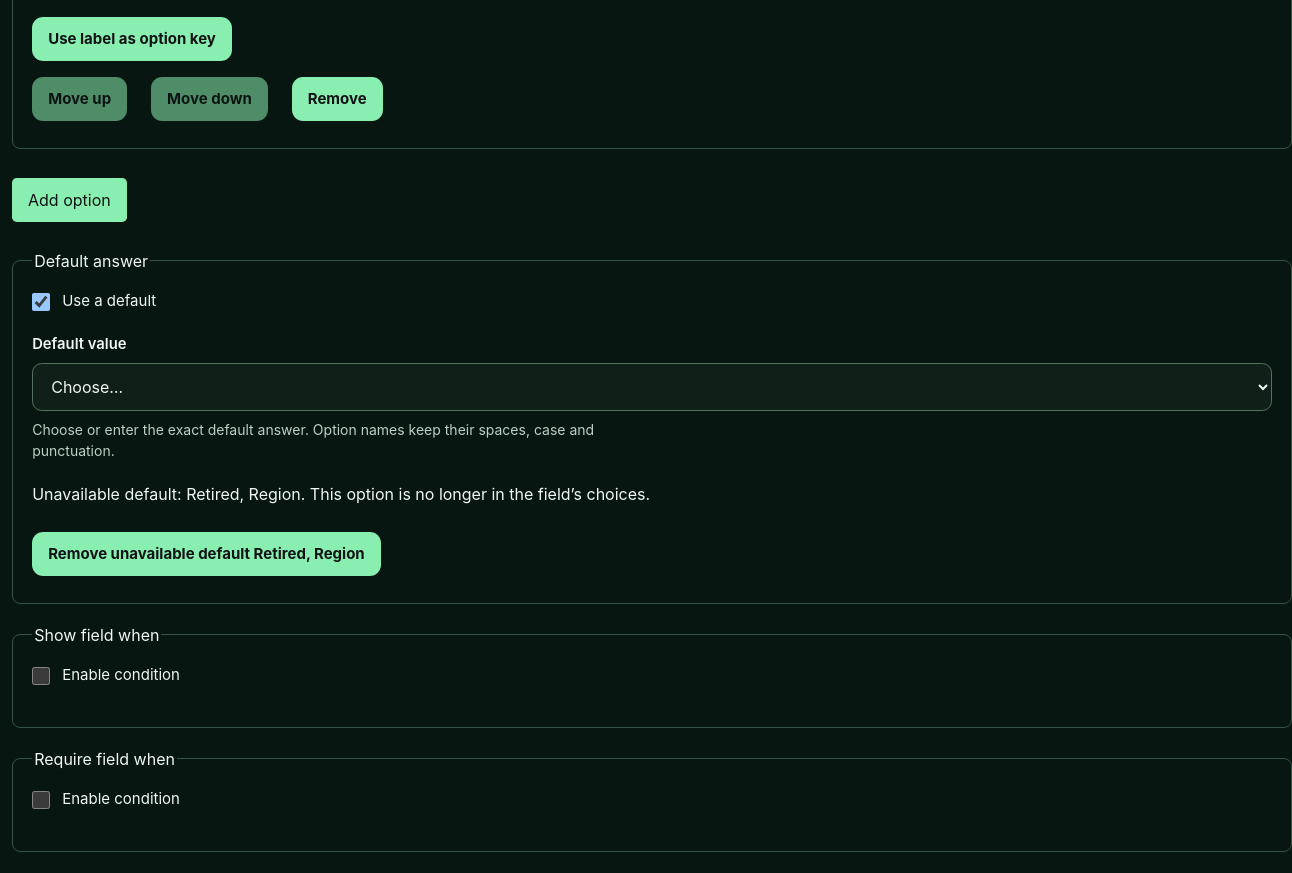
Test: reveals and removes an unavailable select default without hiding its stored value
(page scrolled)
Expected: the text "Unavailable default: Retired, Region" is shown, [32,484,650,504]
Click the button "Remove unavailable default Retired, Region".
click(206, 554)  # box [32,532,381,576]
(page scrolled)
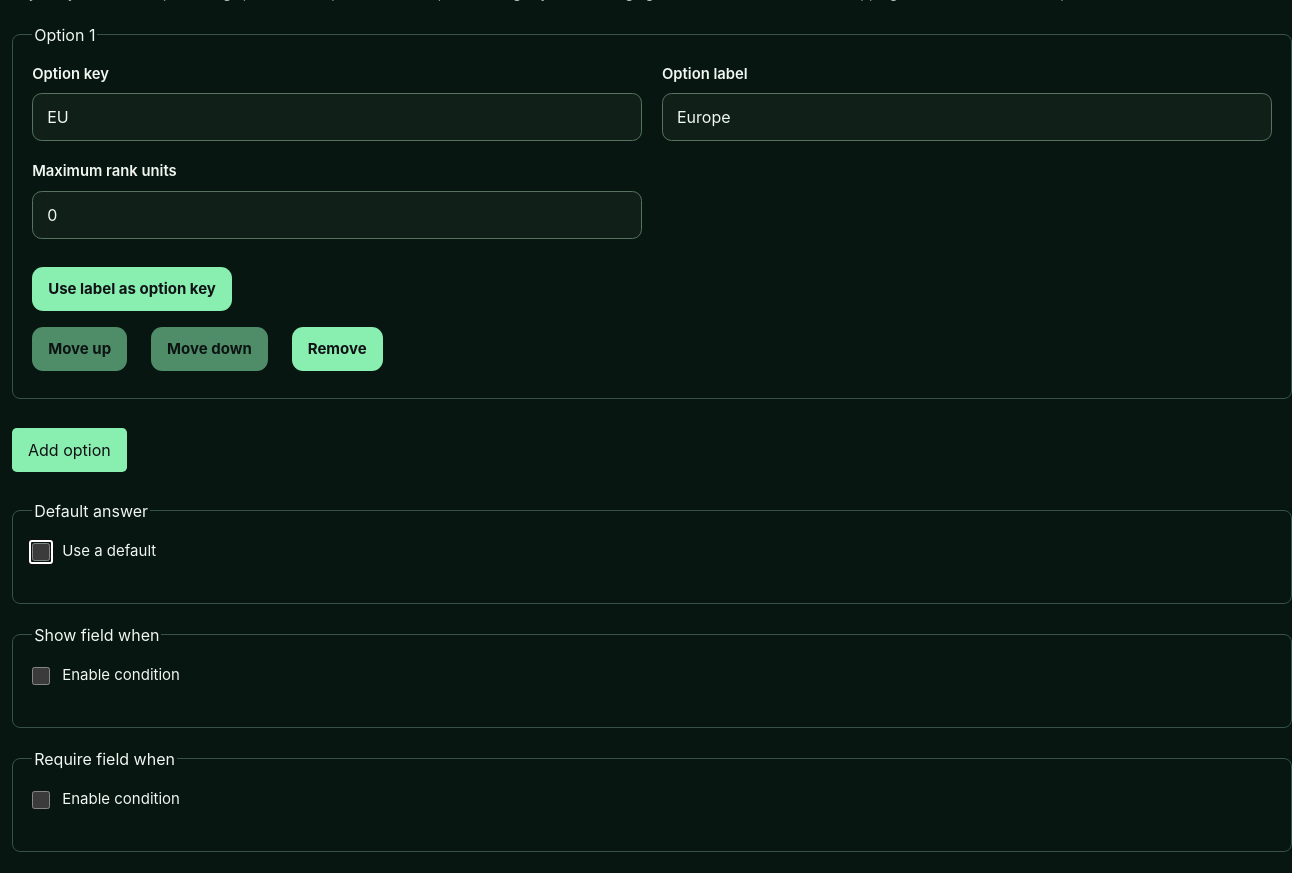
Now the checkbox labelled "Use a default" is not checked, box [32,543,50,561]
Now the text "Unavailable default:" is gone
